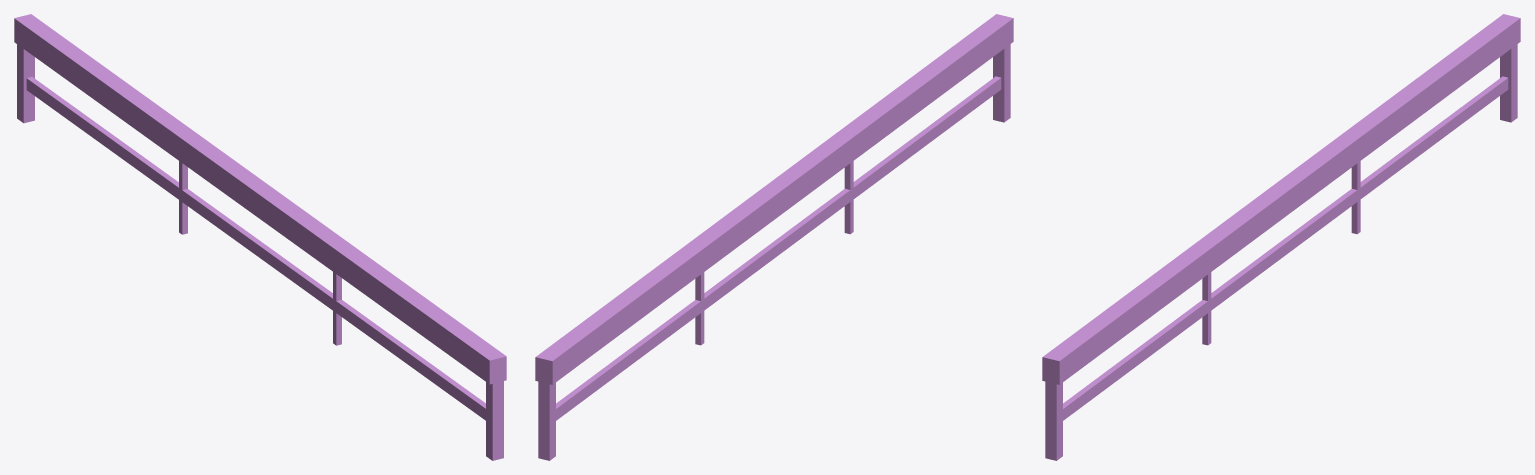
Rendered from reja.obj.
The picture shows the model from 3 angles, left to right: view 1: azimuth 30°, elevation 25°; view 2: azimuth 150°, elevation 25°; view 3: azimuth 330°, elevation 25°; orthographic projection.
Parts seen in each view (by area): view 1: Railing001; view 2: Railing001; view 3: Railing001.
Boxes of the visible parts, x1=… form: Railing001: x1=14, y1=14, x2=506, y2=460; Railing001: x1=535, y1=14, x2=1013, y2=460; Railing001: x1=1042, y1=14, x2=1520, y2=460.
Bounding box in the file's own units: 4.02 × 16.93 × 143.
